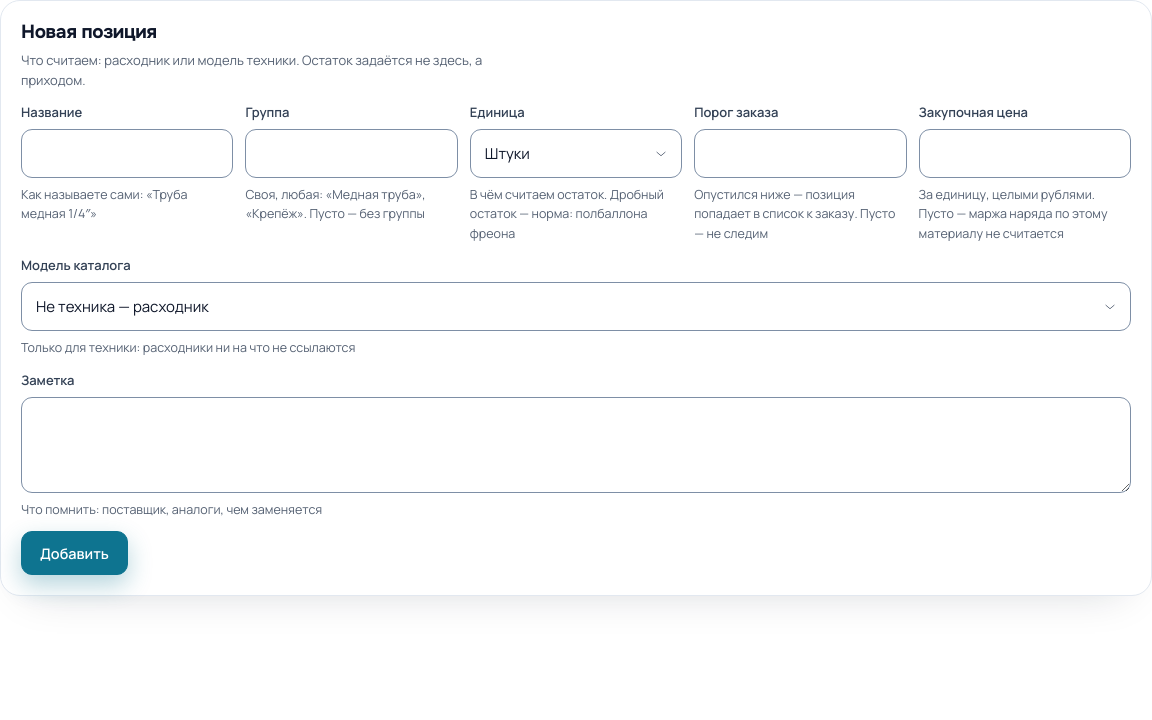
it: Позиция справочника › 🔴 занятое название подсвечивает поле, а не прячется в общей ошибке
The image size is (1152, 720).
In the field labelled "Название": (127, 154) [21,129,233,178], type "Труба медная 1/4″"
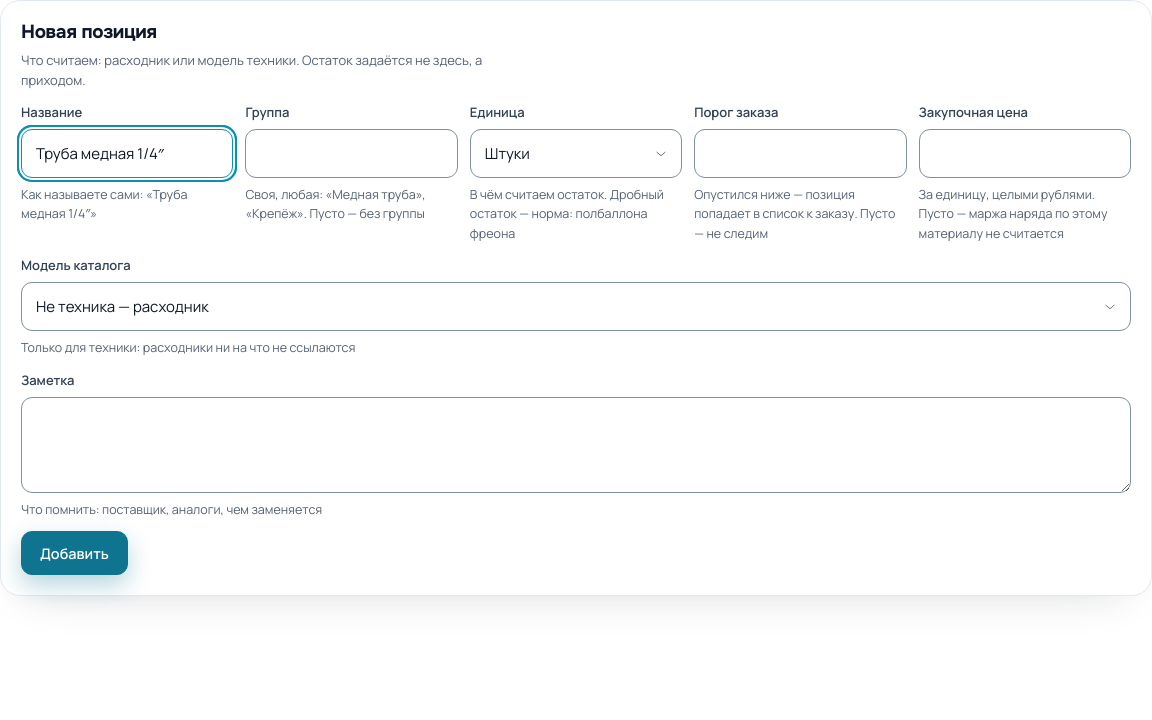
Click the button "Добавить": (74, 553) [21,531,128,575]
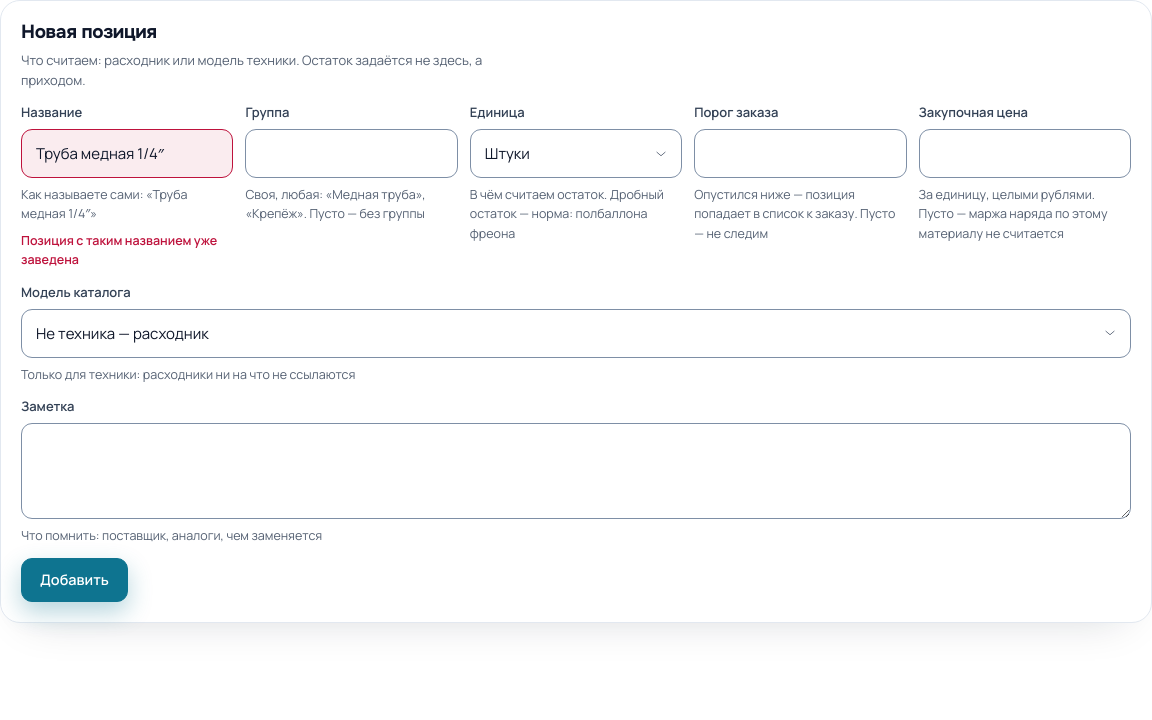
Check: the text "Позиция с таким названием уже заведена" is shown, box [21,231,233,270]
